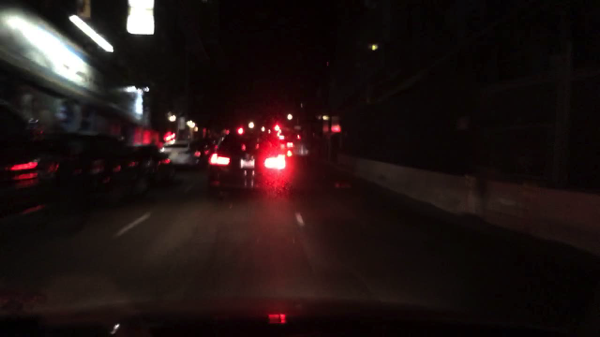car: (0, 100, 86, 237), (53, 131, 151, 208), (208, 128, 296, 201), (130, 142, 179, 185), (159, 140, 196, 169), (195, 140, 214, 164), (279, 140, 296, 160), (292, 142, 311, 157), (207, 140, 222, 153)
